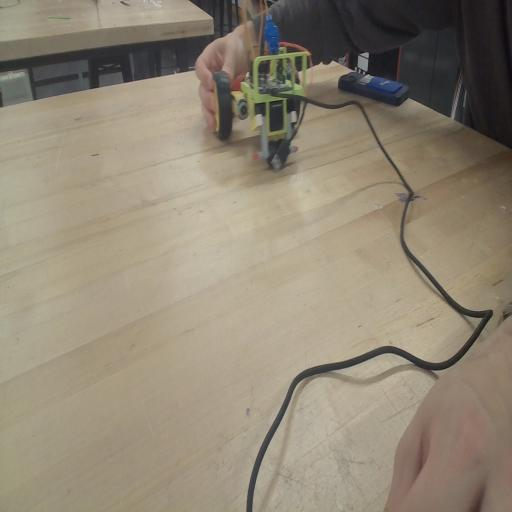blue LEGO minifig: (263, 12, 281, 54)
